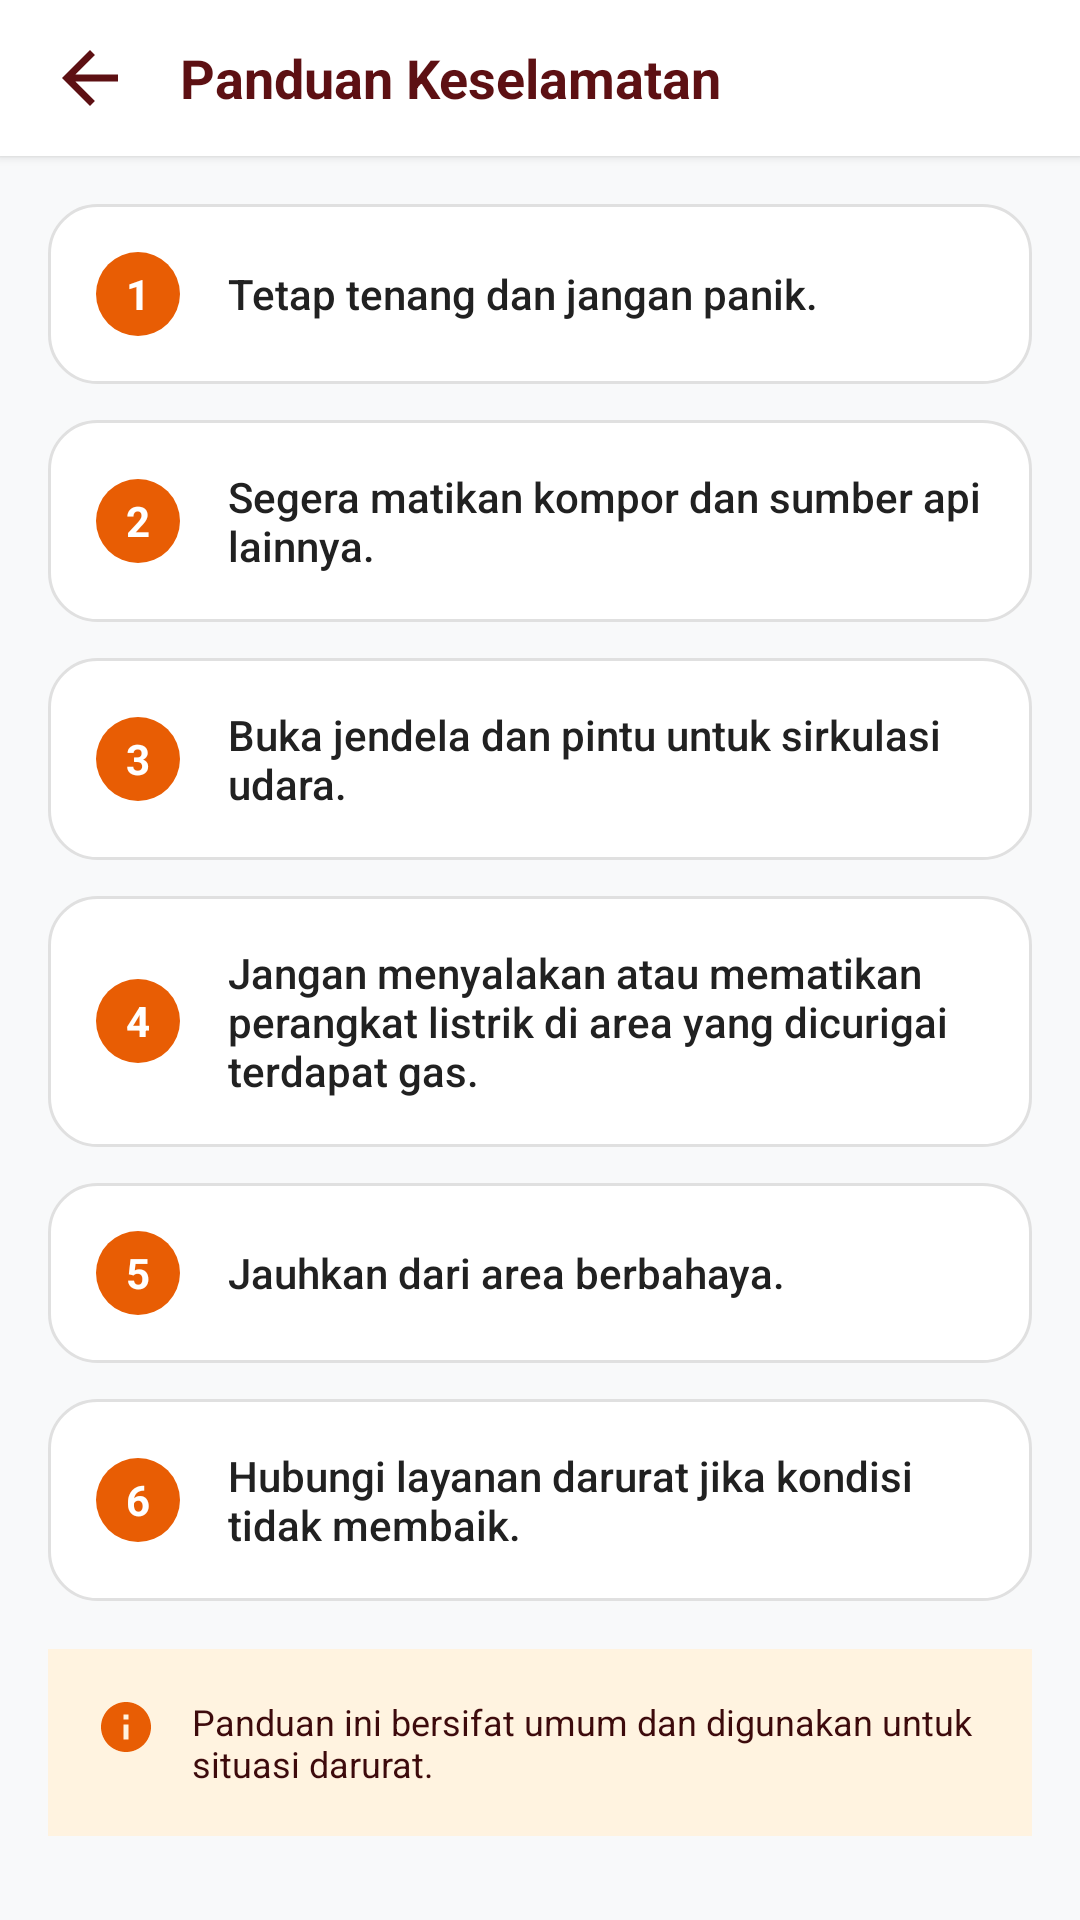

Where icons sit on this 1080x1920 app screen, as Rect(x1, y1, x2, y2):
Info: Rect(101, 1702, 151, 1752)
Kembali: Rect(62, 50, 118, 106)
